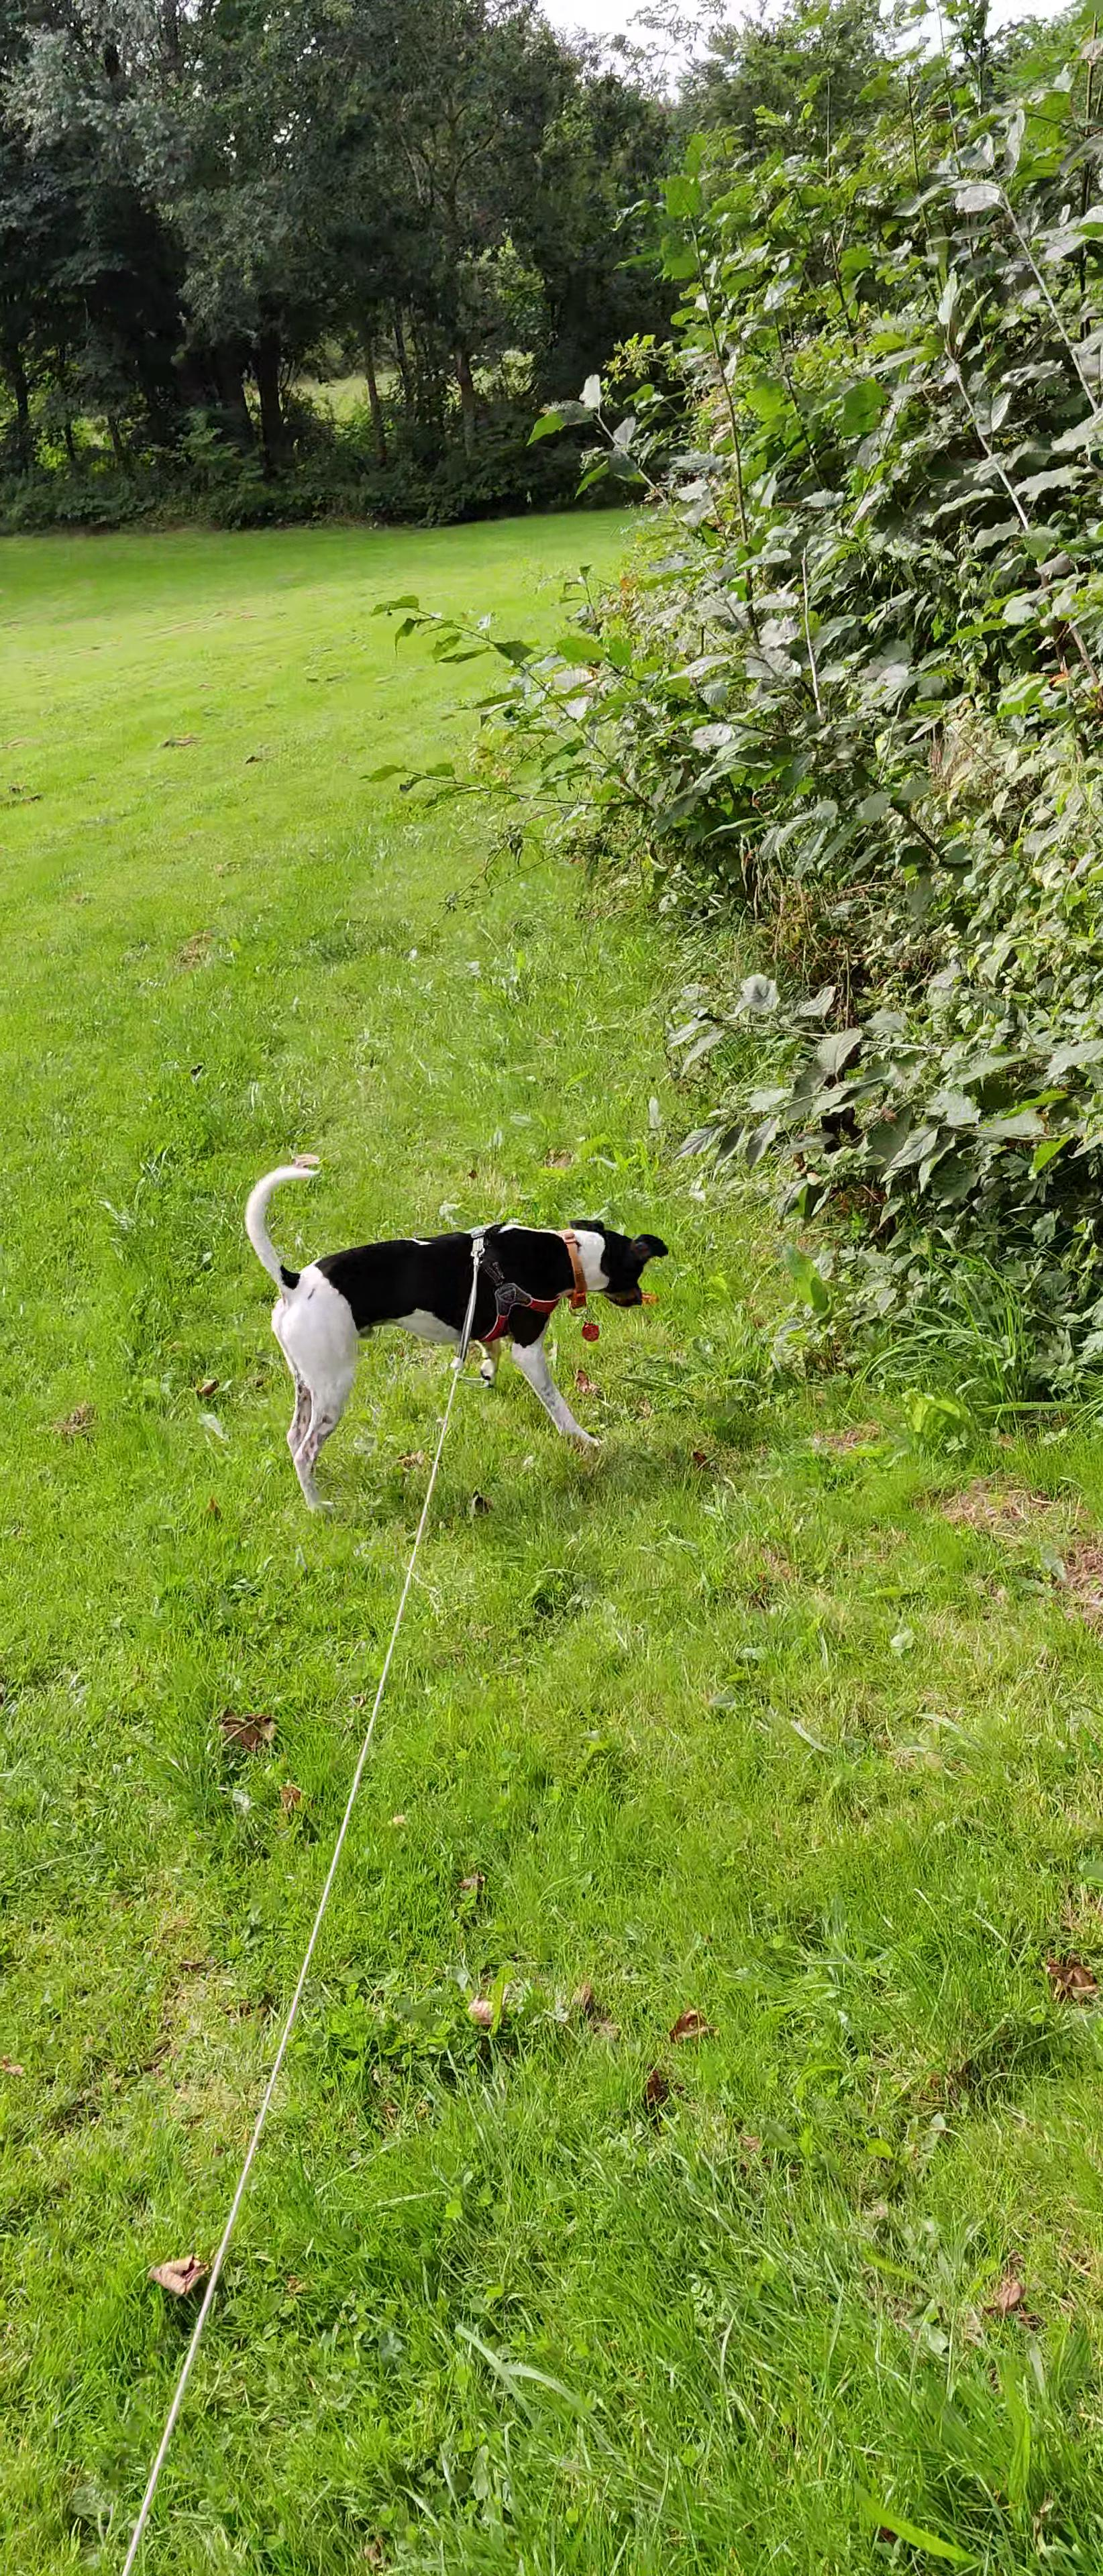Dog: (230, 1152, 682, 1525)
